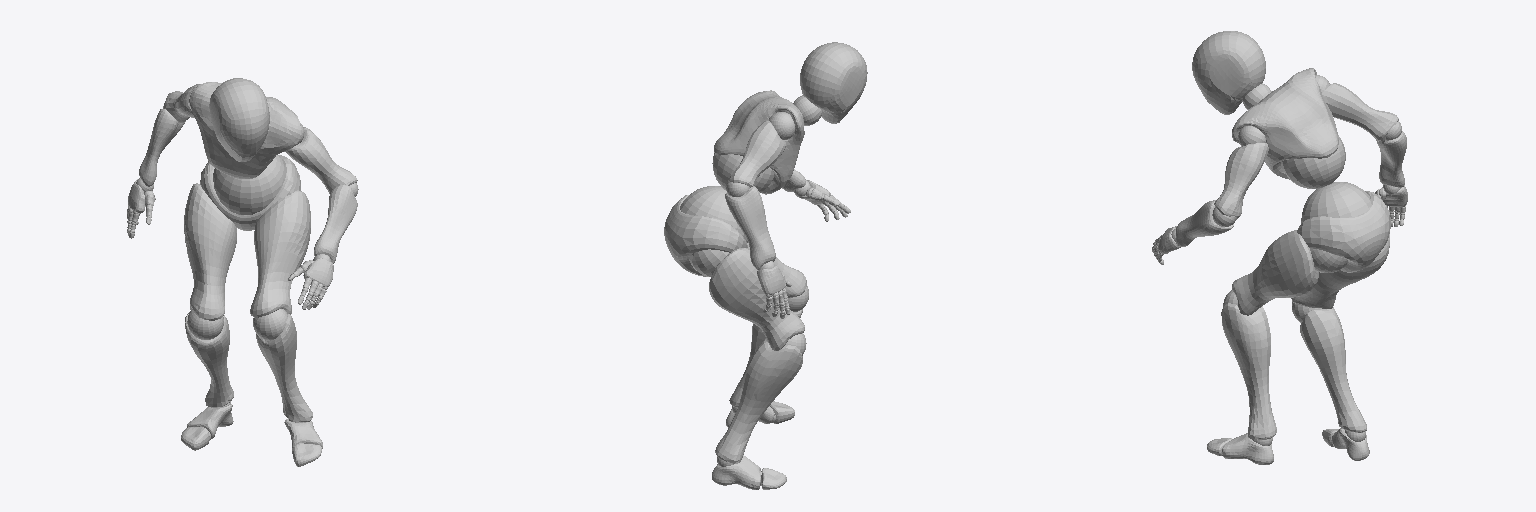
3 renders of one model, left to right at view 1: azimuth 30°, elevation 25°; view 2: azimuth 150°, elevation 25°; view 3: azimuth 270°, elevation 25°, orthographic.
Parts seen in each view (by area): view 1: Beta_Surface, Beta_Joints; view 2: Beta_Surface, Beta_Joints; view 3: Beta_Surface, Beta_Joints.
Part boxes in pixels (left/top/right/bottom): Beta_Surface: left=127, top=78, right=357, bottom=466; Beta_Joints: left=127, top=103, right=358, bottom=439; Beta_Surface: left=664, top=42, right=867, bottom=489; Beta_Joints: left=680, top=95, right=846, bottom=485; Beta_Surface: left=1152, top=31, right=1407, bottom=464; Beta_Joints: left=1152, top=75, right=1406, bottom=446.
Size of the model in its own units: 0.5632 by 1.48 by 0.8476.